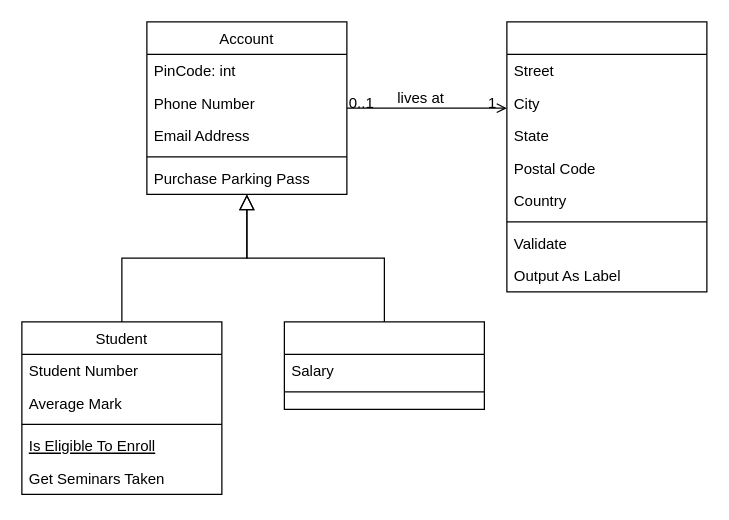
Image size: 729x520. Some labels were removed from this diagram. Each missing label, with the box of its shape:
AtmMachine: (506, 21, 707, 292)
Professor: (283, 321, 484, 409)
